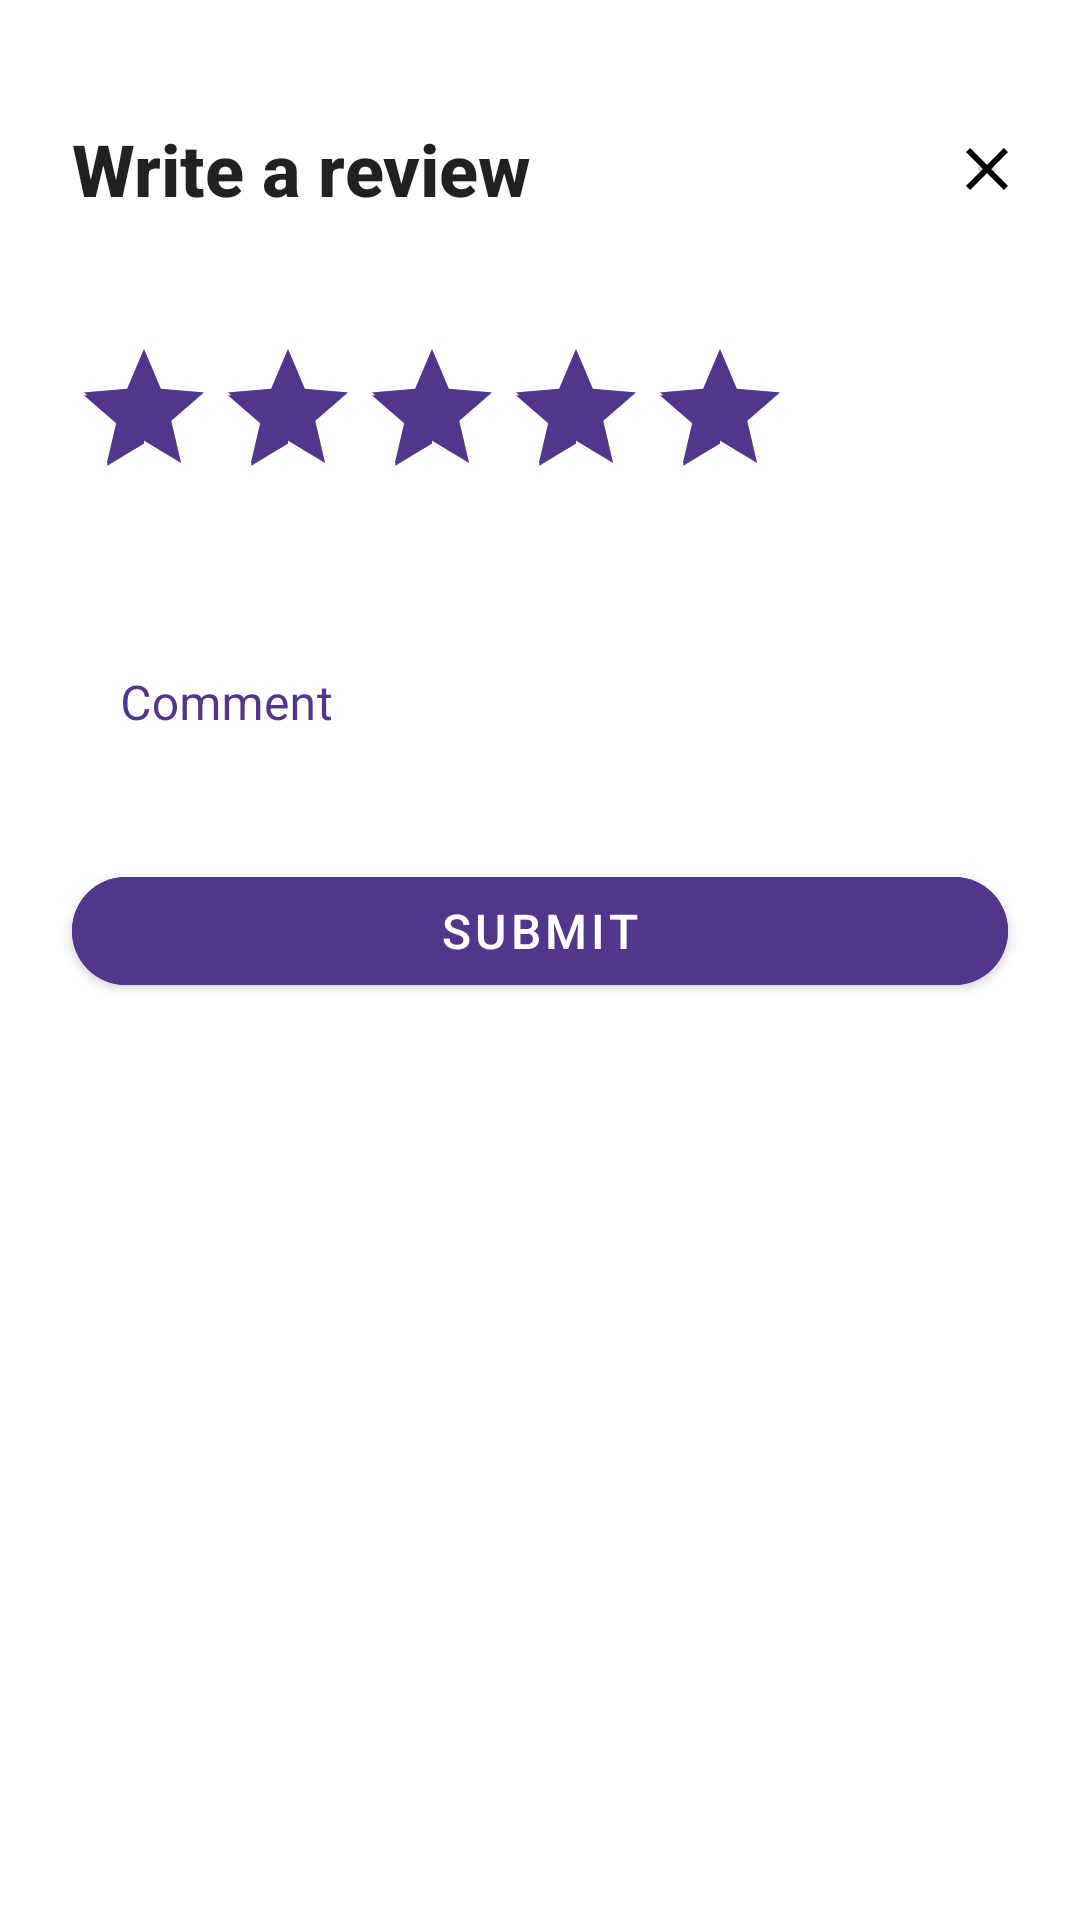

Icon click points for this 1080×1920 phone screenshot, format (x=x, y=y):
close: (x=987, y=169)
